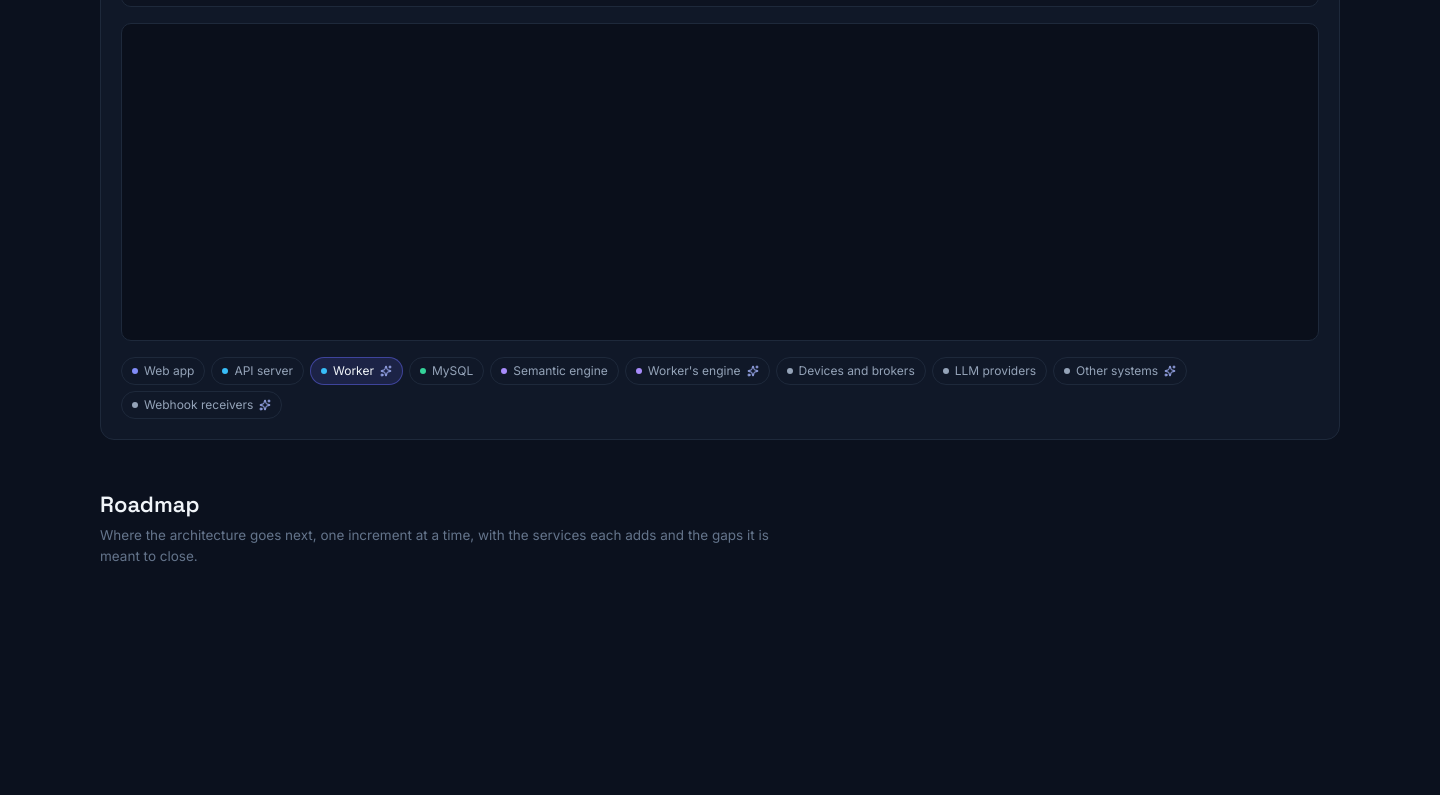
Scenario: Landscape page (real data) › shows a service's runtime and responsibilities when it is selected
(page scrolled)
Click the button "Webhook receivers": [202, 405] box x1=121 y1=391 x2=282 y2=419
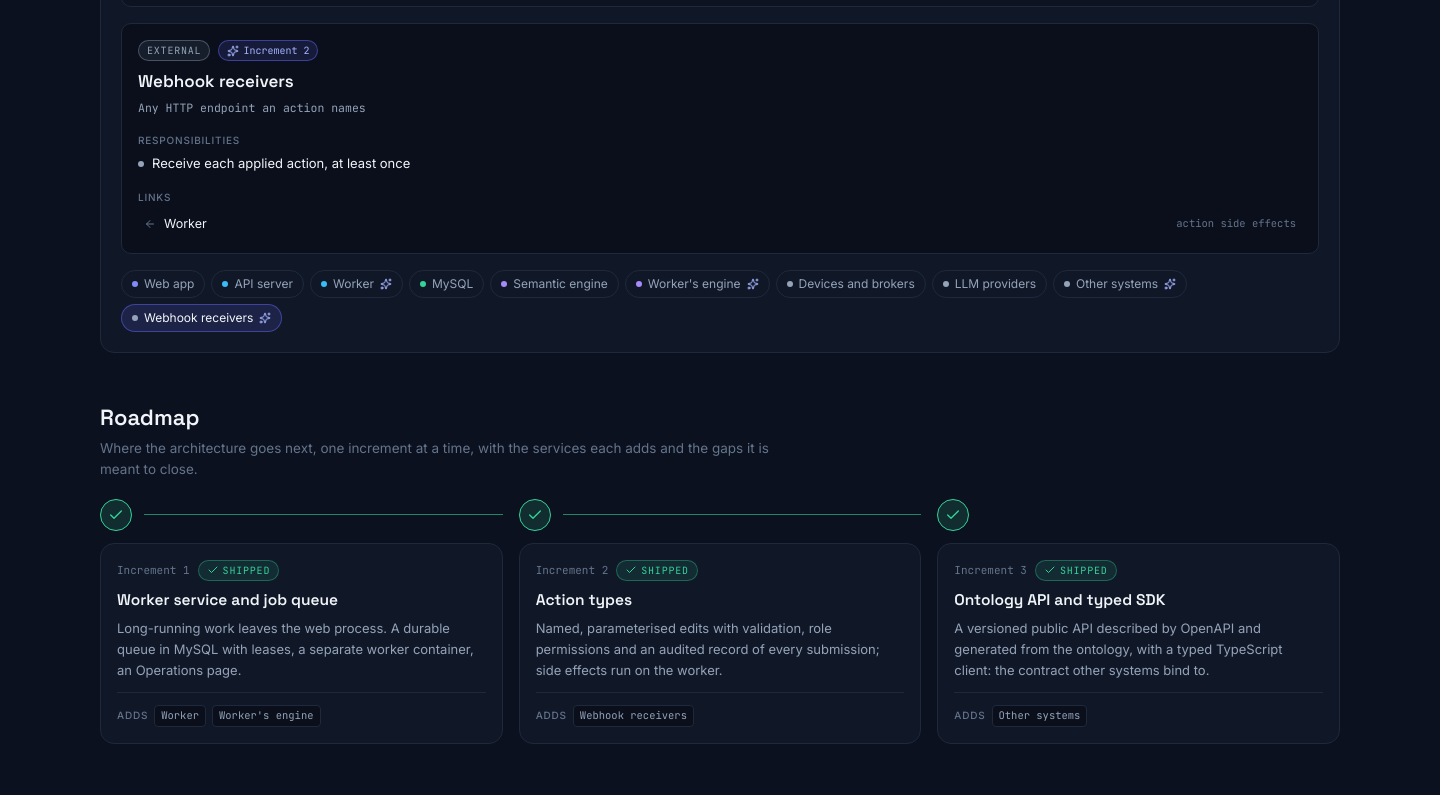
Expected: the element that starts with "External" shows "Any HTTP endpoint an action names", x1=138 y1=100 x2=366 y2=115
Expected: the element that starts with "External" shows "Receive each applied action, at least once", x1=152 y1=155 x2=410 y2=171
